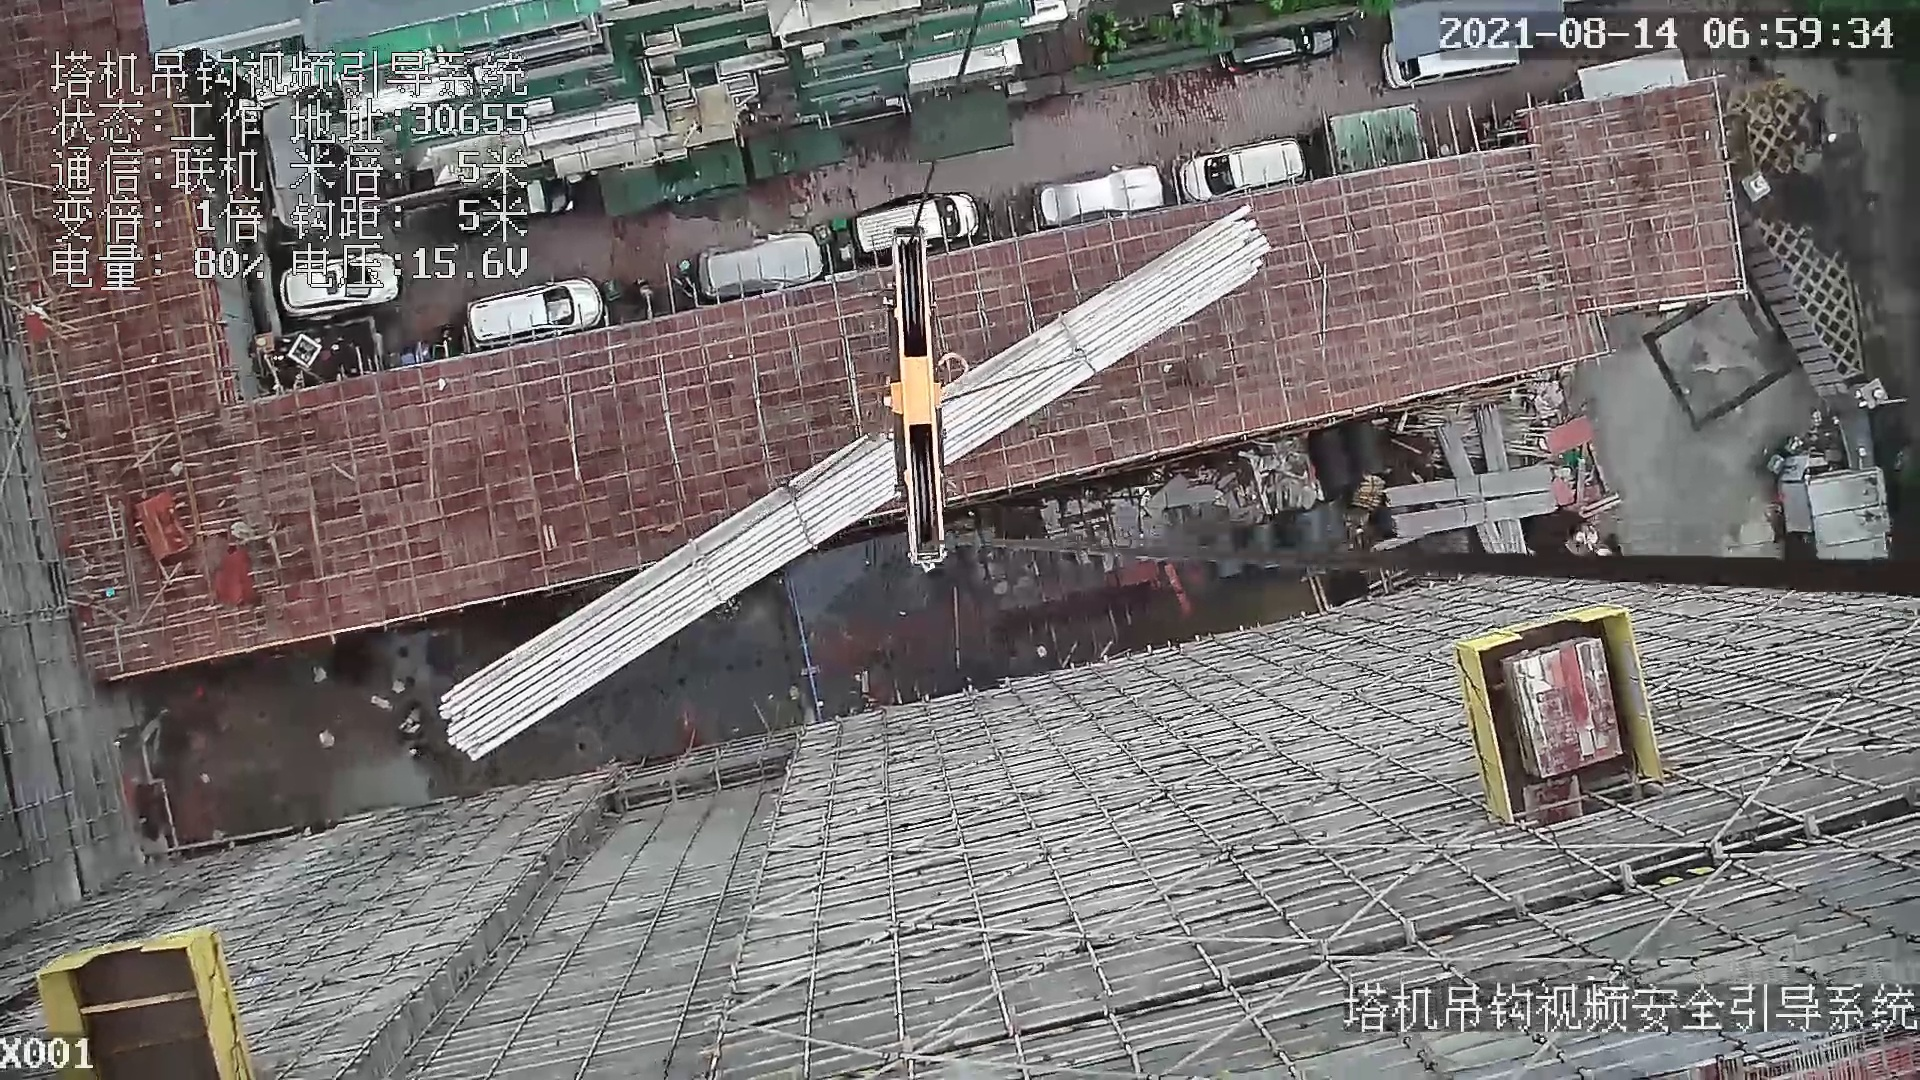board: (1501, 637, 1623, 777)
hook: (877, 225, 963, 568)
rebar: (438, 206, 1274, 761), (1437, 425, 1505, 553), (1476, 404, 1528, 554), (1393, 491, 1553, 537), (1385, 465, 1553, 506)
wood: (1353, 473, 1385, 512)
